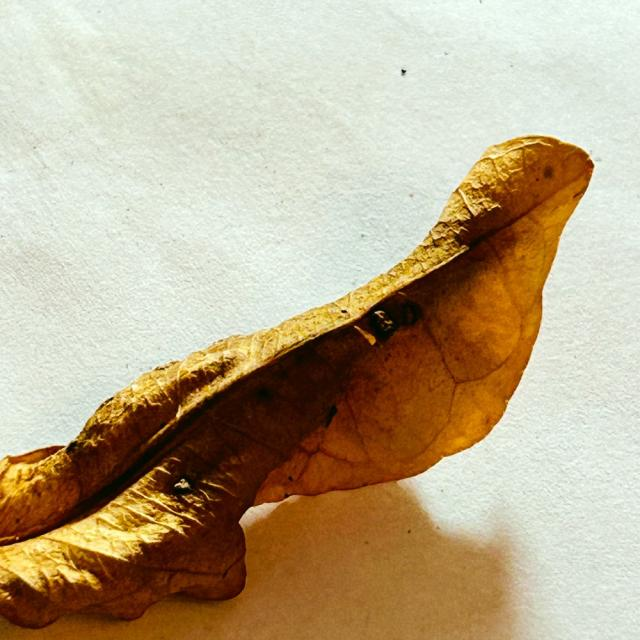DryLeaf_Lemon: (0, 136, 593, 627)
